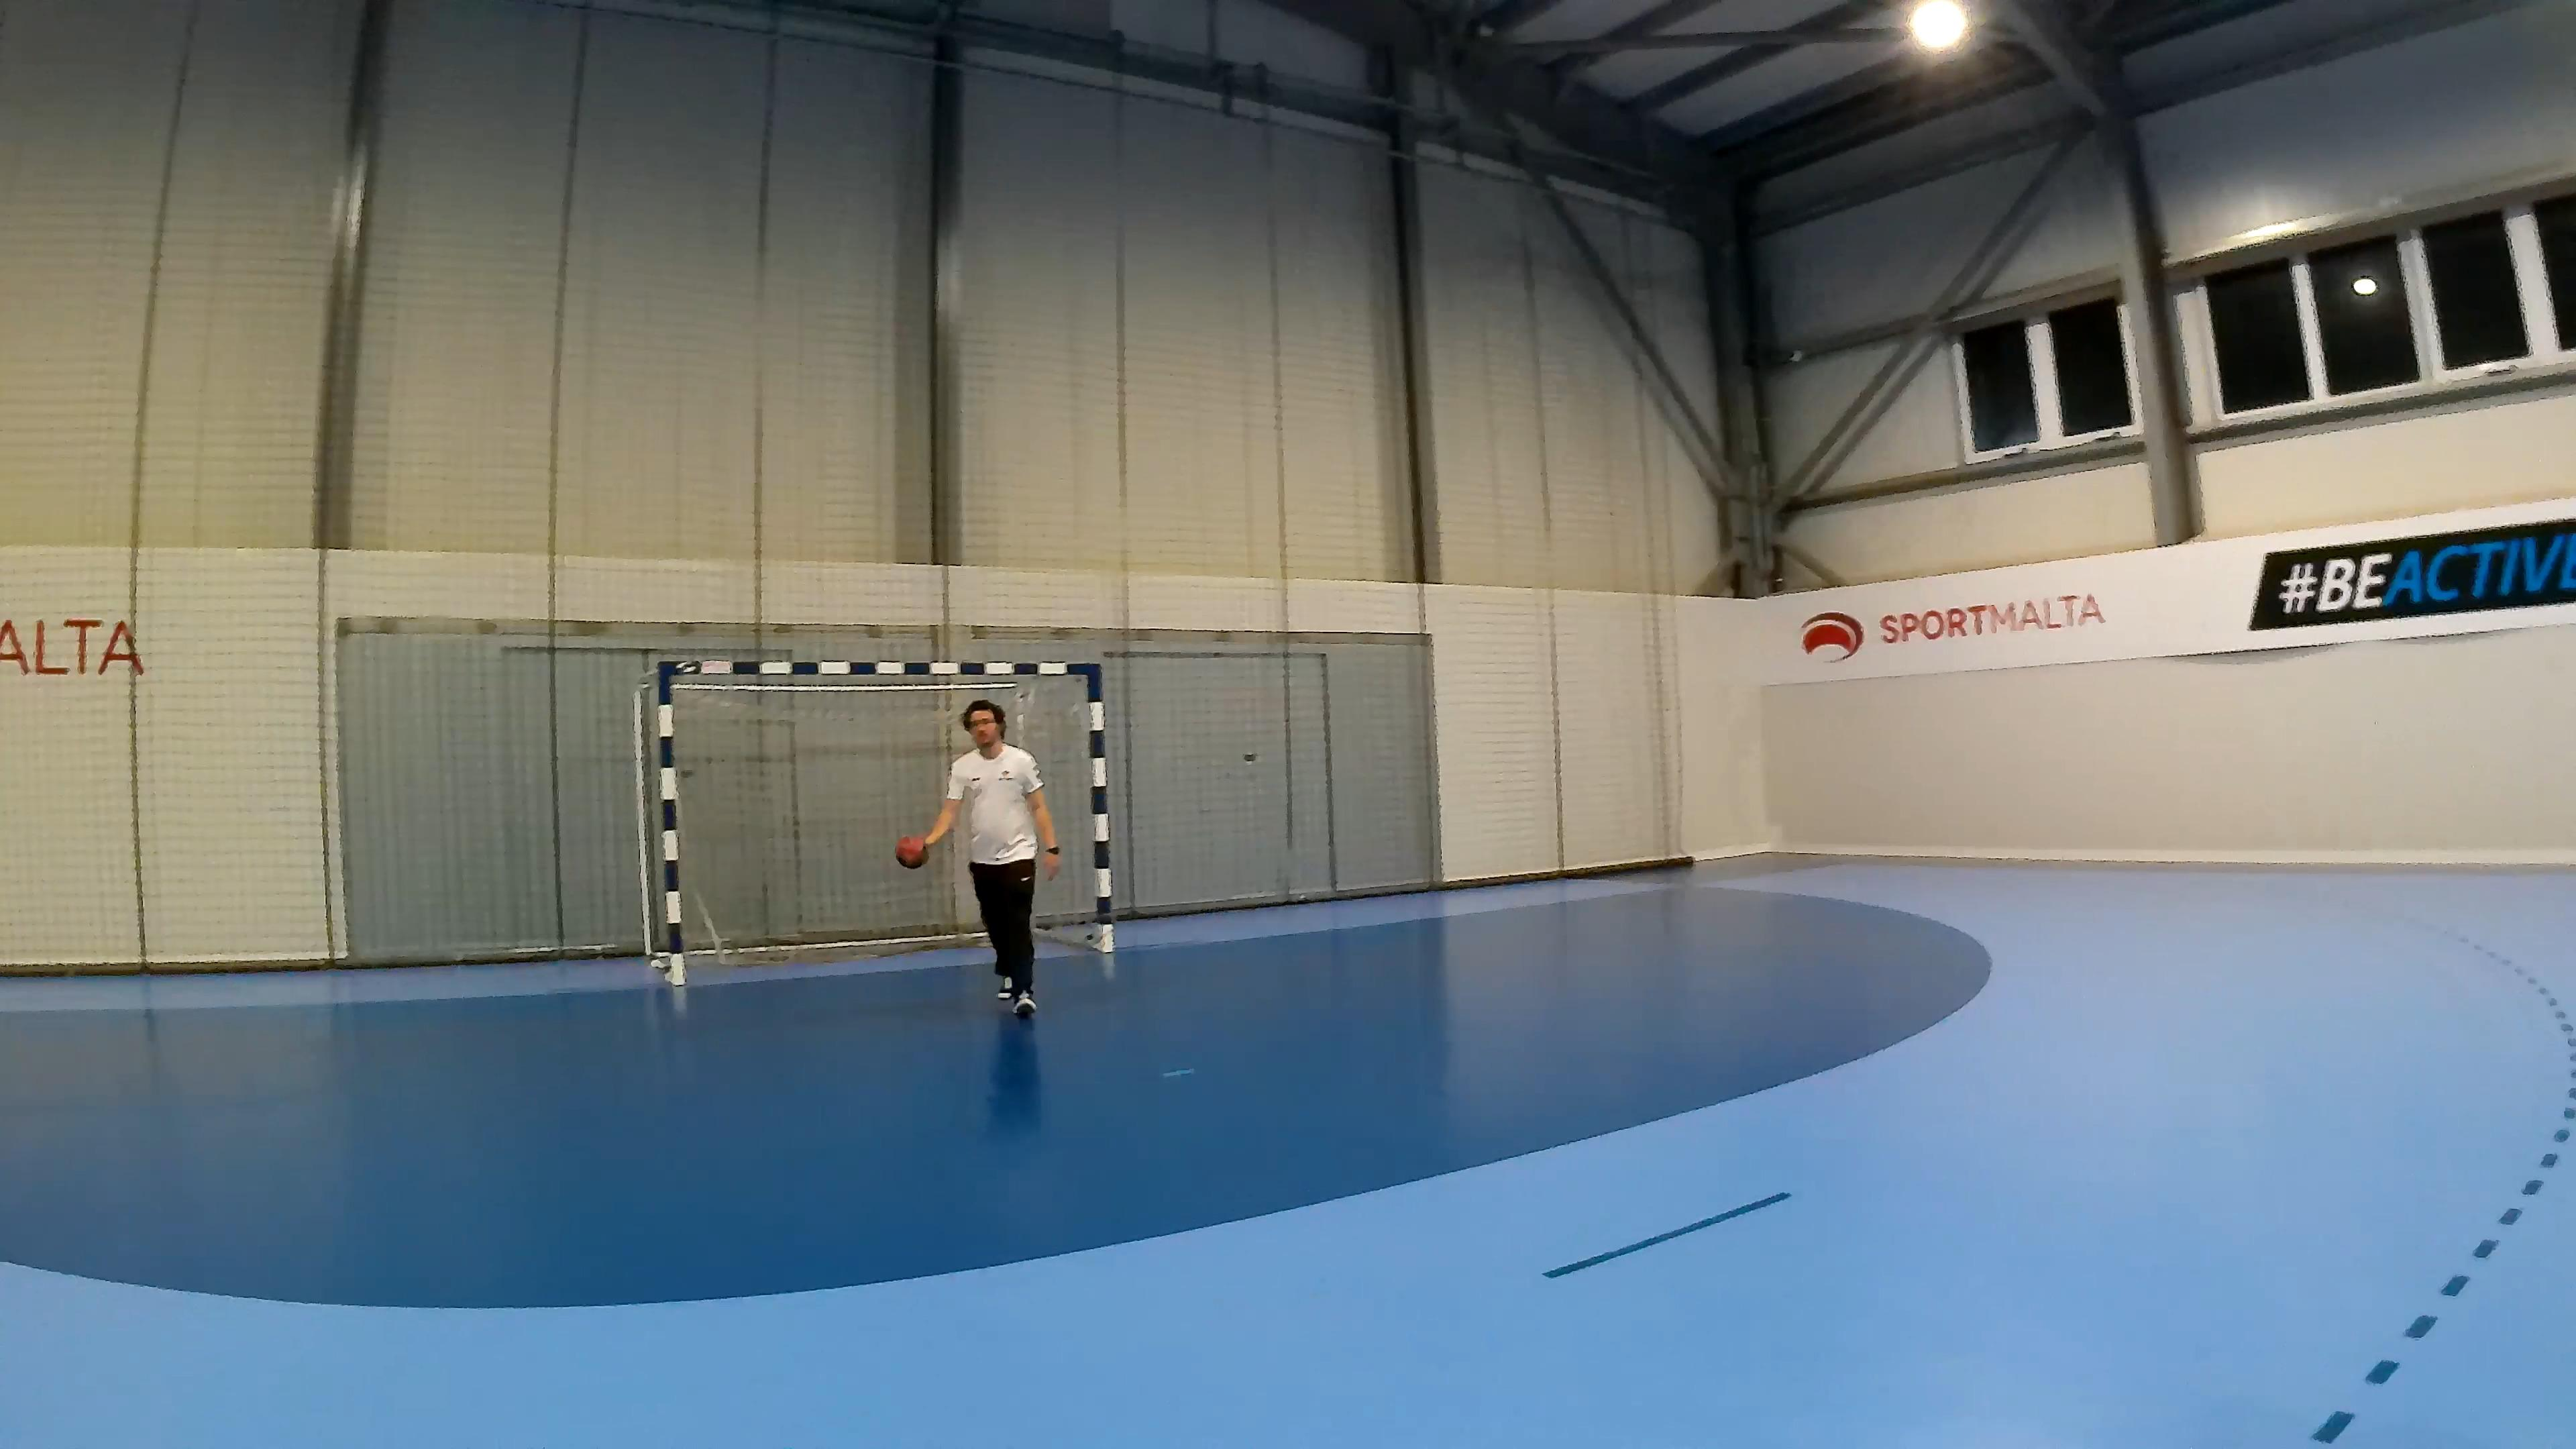handball: (893, 832, 929, 872)
